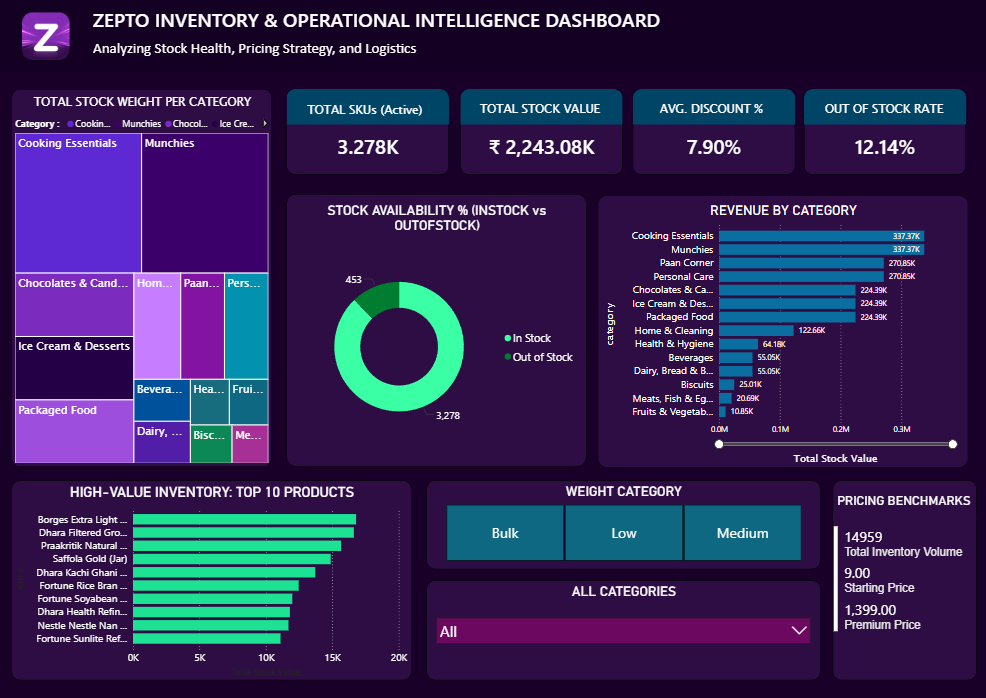

What the dashboard file says about the page in this screenshot:
{"tool":"powerbi","page":{"name":"Page 1","canvas":[1580,1120],"ordinal":0},"visuals":[{"type":"shape","box":[0,0,1580,116],"z":0},{"type":"card","title":"Out of Stock Rate","fields":{"Values":["public zepto.Out of Stock Rate"]},"box":[1289.2,190.6,259.5,91.5],"z":0,"group":"g1"},{"type":"image","box":[0,11.2,149.5,95],"z":250},{"type":"textbox","box":[139.7,58.7,670.8,57.3],"z":500},{"type":"shape","box":[1289.3,144.7,259.9,57.3],"z":1000,"group":"g1"},{"type":"textbox","box":[1315.8,155.9,233.4,46.1],"z":2000,"group":"g1"},{"type":"card","title":"Out of Stock Rate","fields":{"Values":["public zepto.Avg. Discount %"]},"box":[1015.4,190.8,259.9,90.8],"z":3000,"group":"g1"},{"type":"clusteredBarChart","title":"REVENUE BY CATEGORY","fields":{"Category":["public zepto.category"],"Y":["public zepto.Total Stock Value"]},"box":[957.9,313.6,592.6,435.9],"z":3000},{"type":"shape","box":[1015.4,144.7,259.9,57.3],"z":4000,"group":"g1"},{"type":"donutChart","title":"STOCK AVAILABILITY % (INSTOCK vs OUTOFSTOCK)","fields":{"Y":["Count(public zepto.sku_id)"],"Category":["public zepto.Stock Status Label"]},"box":[460.6,312.9,479.8,436.3],"z":4000},{"type":"group","id":"g1","title":"Group 1","box":[460.6,144.3,1088.9,139.1],"z":5000},{"type":"textbox","box":[1052.3,155.4,185.9,45.6],"z":5000,"group":"g1"},{"type":"treemap","title":"TOTAL STOCK WEIGHT PER CATEGORY","fields":{"Group":["public zepto.category"],"Values":["Sum(public zepto.weightingms)"]},"box":[20.9,144.3,417.2,604.9],"z":6000},{"type":"card","title":"Out of Stock Rate","fields":{"Values":["public zepto.Total Stock Value"]},"box":[738.7,190.8,259.9,90.8],"z":6000,"group":"g1"},{"type":"shape","box":[738.7,144.7,259.9,57.3],"z":7000,"group":"g1"},{"type":"clusteredBarChart","title":"HIGH-VALUE INVENTORY: TOP 10 PRODUCTS","fields":{"Category":["public zepto.name"],"Y":["public zepto.Total Stock Value"]},"box":[20,770,640,320],"z":7000},{"type":"card","title":"Out of Stock Rate","fields":{"Values":["public zepto.Active SKUs"]},"box":[460.6,190.8,259.9,90.8],"z":8000,"group":"g1"},{"type":"slicer","title":"WEIGHT CATEGORY","fields":{"Values":["public zepto.weight_category"]},"box":[684,770,630,142],"z":8000},{"type":"shape","box":[460.6,144.7,259.9,57.3],"z":9000,"group":"g1"},{"type":"slicer","title":"ALL CATEGORIES","fields":{"Values":["public zepto.category"]},"box":[684,930,630,160],"z":9000},{"type":"textbox","box":[489.1,157.7,202.7,62.7],"z":10000,"group":"g1"},{"type":"multiRowCard","title":"PRICING BENCHMARKS","fields":{"Values":["Sum(public zepto.availablequantity)","Min(public zepto.discountedsellingprice)1","Max(public zepto.discountedsellingprice)"]},"box":[1334,770,230,320],"z":10000},{"type":"textbox","box":[764.4,155.4,213.2,45.6],"z":11000,"group":"g1"}]}

Visuals, with their boxes in screenshot pixels (x1, y1, x2, y2), scaled from the page's 1580x1120 canvas onto the 986x698 screenshot:
shape: select_region(0, 0, 985, 72)
"Out of Stock Rate" card: select_region(805, 119, 966, 176)
image: select_region(0, 7, 93, 66)
textbox: select_region(87, 37, 506, 72)
shape: select_region(805, 90, 967, 126)
textbox: select_region(821, 97, 967, 126)
"Out of Stock Rate" card: select_region(634, 119, 796, 175)
"REVENUE BY CATEGORY" clusteredBarChart: select_region(598, 195, 968, 467)
shape: select_region(634, 90, 796, 126)
"STOCK AVAILABILITY % (INSTOCK vs OUTOFSTOCK)" donutChart: select_region(287, 195, 587, 467)
"Group 1" group: select_region(287, 90, 967, 177)
textbox: select_region(657, 97, 773, 125)
"TOTAL STOCK WEIGHT PER CATEGORY" treemap: select_region(13, 90, 273, 467)
"Out of Stock Rate" card: select_region(461, 119, 623, 175)
shape: select_region(461, 90, 623, 126)
"HIGH-VALUE INVENTORY: TOP 10 PRODUCTS" clusteredBarChart: select_region(12, 480, 412, 679)
"Out of Stock Rate" card: select_region(287, 119, 450, 175)
"WEIGHT CATEGORY" slicer: select_region(427, 480, 820, 568)
shape: select_region(287, 90, 450, 126)
"ALL CATEGORIES" slicer: select_region(427, 580, 820, 679)
textbox: select_region(305, 98, 432, 137)
"PRICING BENCHMARKS" multiRowCard: select_region(832, 480, 976, 679)
textbox: select_region(477, 97, 610, 125)
